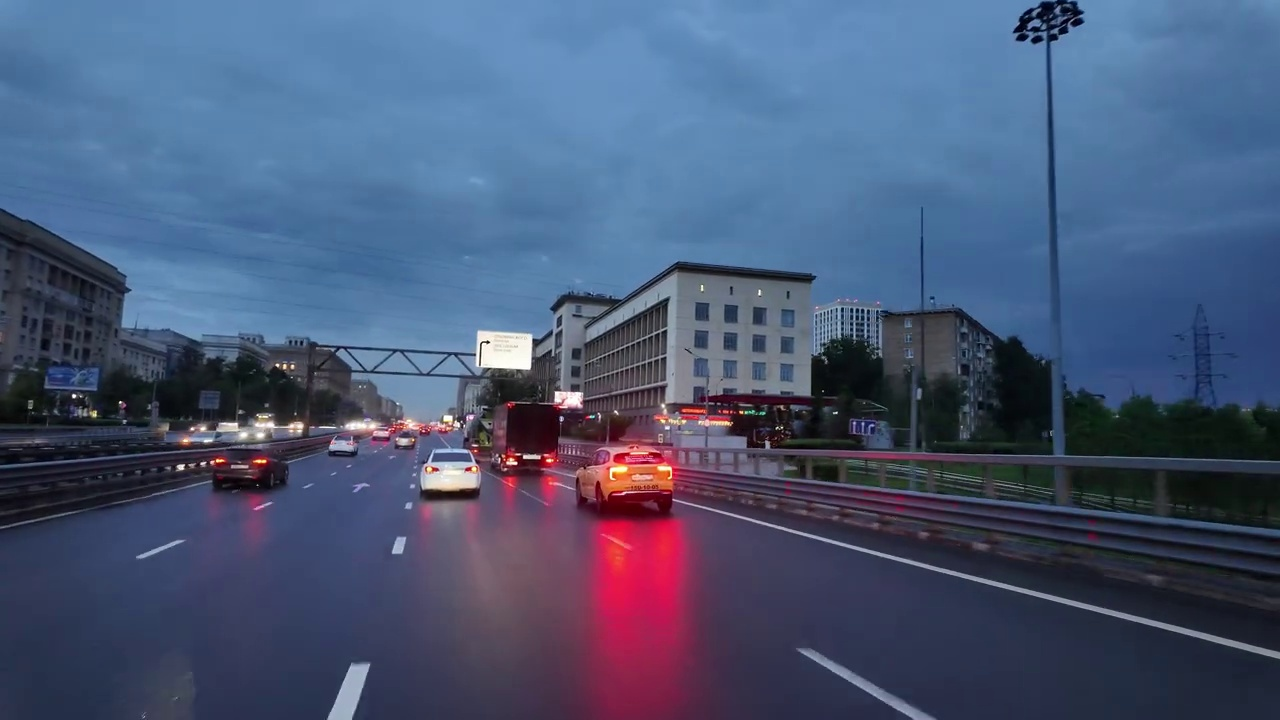apagada: (1011, 1, 1085, 50)
